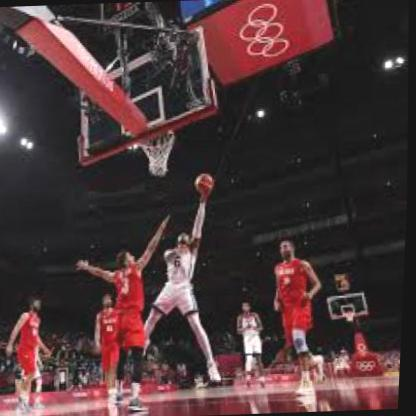basketball: (195, 173, 216, 194)
rim: (135, 130, 176, 151)
